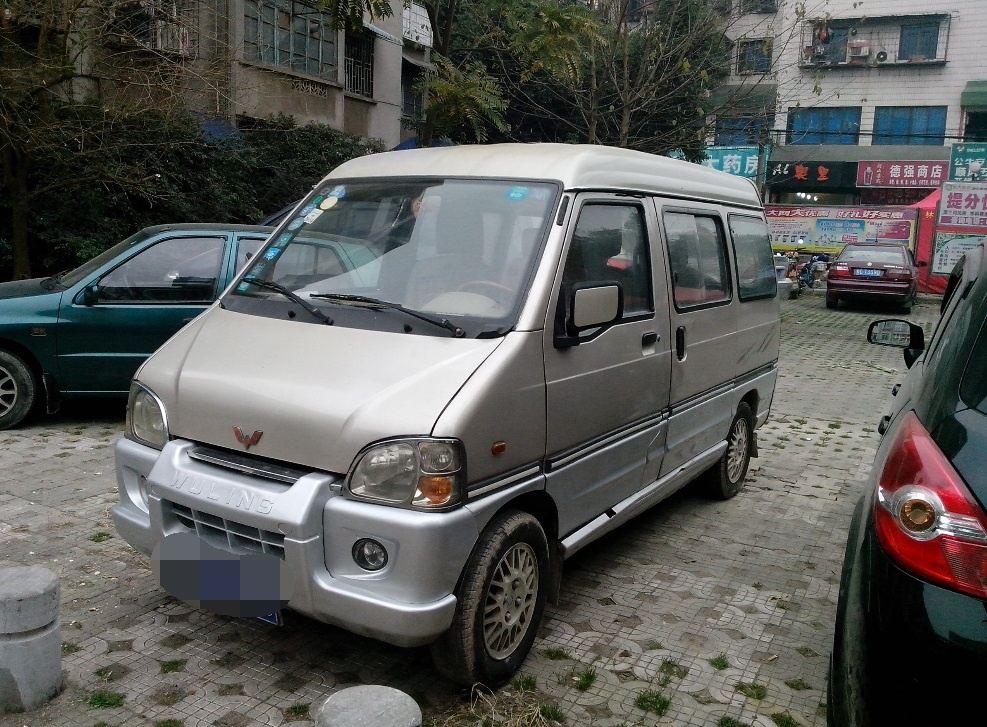minibus: (143, 126, 797, 645)
